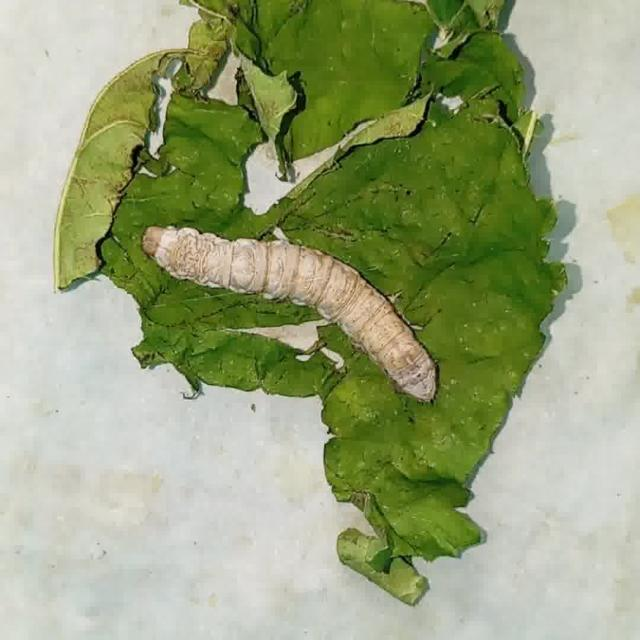Grasserie: (140, 212, 444, 414)
